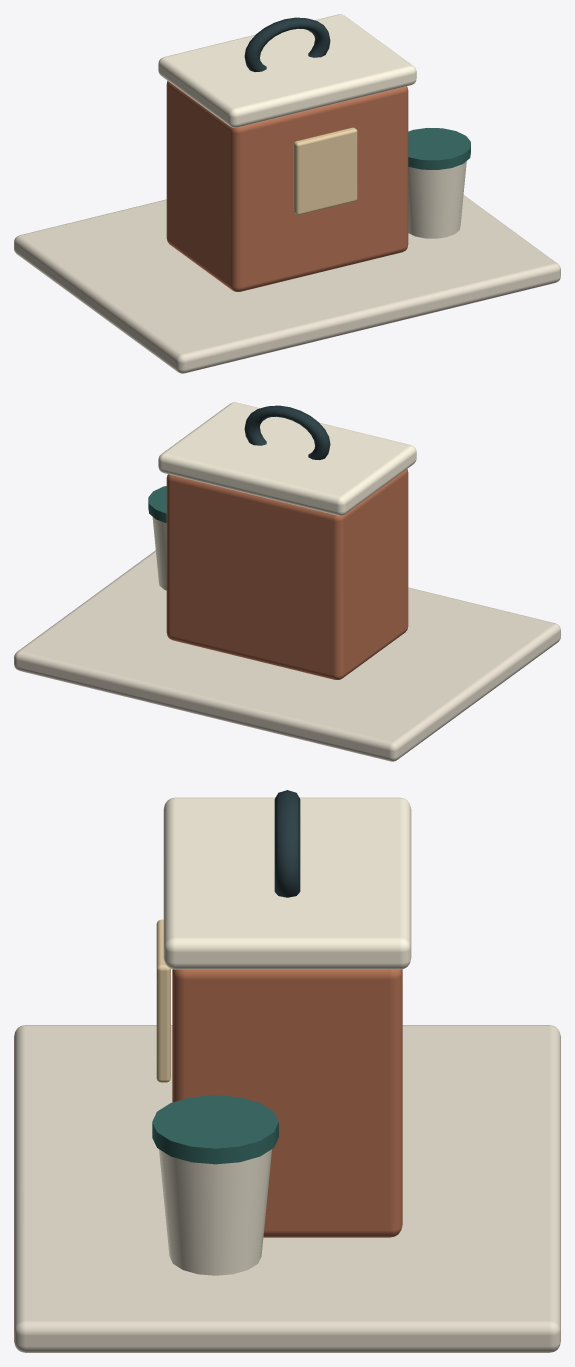
Rendered from work-delivery.glb.
3 renders of one model, top to bottom at view 1: azimuth 30°, elevation 25°; view 2: azimuth 150°, elevation 25°; view 3: azimuth 270°, elevation 25°, orthographic. The views are drawn at different scales.
Parts seen in each view (by area): view 1: display-plinth, delivery-bag, folded-top, order-label, drink, lid, carry-handle; view 2: display-plinth, delivery-bag, folded-top, carry-handle, drink, lid; view 3: display-plinth, delivery-bag, folded-top, drink, lid, carry-handle, order-label.
Boxes of the visible parts, <box> form: display-plinth: <box>14,195,560,373</box>; delivery-bag: <box>166,81,408,291</box>; folded-top: <box>158,14,416,127</box>; order-label: <box>293,127,357,214</box>; drink: <box>408,161,466,238</box>; lid: <box>408,128,470,169</box>; carry-handle: <box>244,17,330,71</box>; display-plinth: <box>14,550,560,761</box>; delivery-bag: <box>166,469,408,679</box>; folded-top: <box>158,402,416,515</box>; carry-handle: <box>244,405,330,459</box>; drink: <box>152,516,166,590</box>; lid: <box>148,486,166,523</box>; display-plinth: <box>14,1025,560,1352</box>; delivery-bag: <box>172,969,402,1237</box>; folded-top: <box>163,797,411,969</box>; drink: <box>159,1149,271,1275</box>; lid: <box>152,1095,278,1164</box>; carry-handle: <box>274,790,300,897</box>; order-label: <box>156,919,170,1082</box>.
Bounding box in the file's own units: 2.5 × 1.55 × 1.9.
